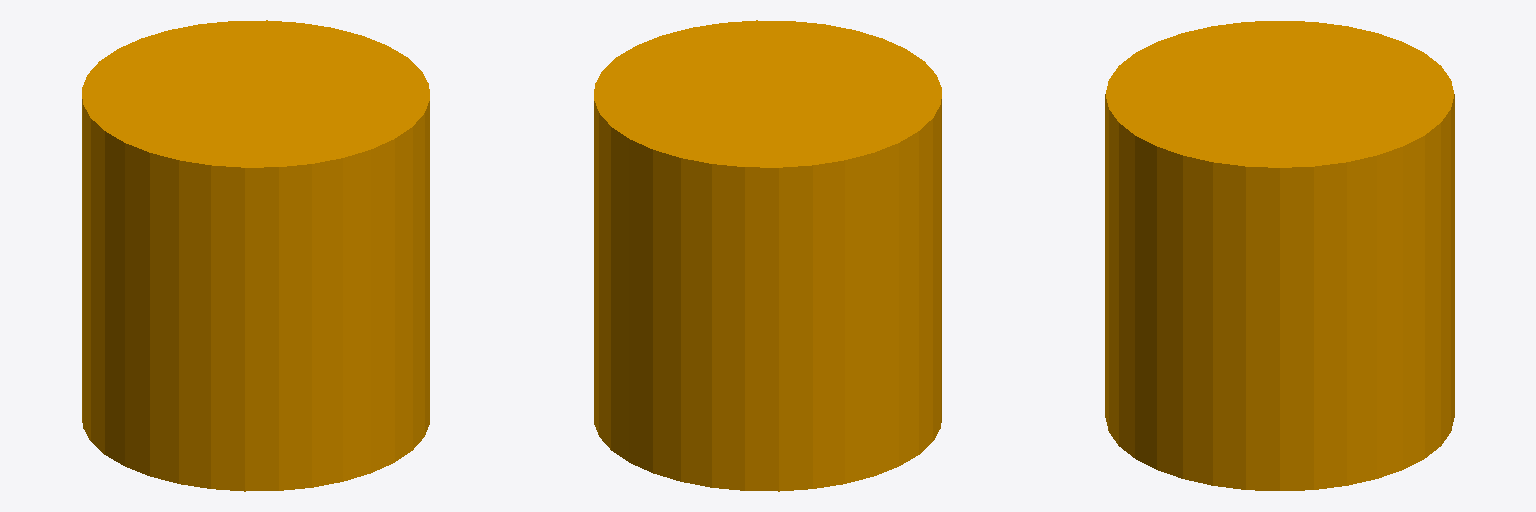
robot.urdf — cylinder.urdf:
<?xml version="1.0" encoding="utf-8"?>
<robot name="cylinder.urdf">
  <link name="baseLink">
    <contact>
      <lateral_friction value="0.5"/>
      <rolling_friction value="0.001"/>
      <spinning_friction value="0.001"/>
    </contact>
    <inertial>
      <origin rpy="0 0 0" xyz="0 0 0"/>
       <mass value="0.04"/>
       <inertia ixx="1" ixy="0" ixz="0" iyy="1" iyz="0" izz="1"/>
    </inertial>
    <visual>
      <origin rpy="0 0 0" xyz="0 0 0"/>
      <geometry>
         <mesh filename="cylinder.obj"/>
      </geometry>
    </visual>
    <collision>
      <origin rpy="0 0 0" xyz="0 0 0"/>
      <geometry>
	 	    <mesh filename="cylinder.obj"/>
      </geometry>
    </collision>
  </link>
</robot>

--- Facts derived from the render (not from the file) ---
Views: 3 orthographic renders of the robot side by side, from view 1: azimuth 30°, elevation 25°; view 2: azimuth 150°, elevation 25°; view 3: azimuth 270°, elevation 25°.
Model cylinder.urdf with 1 links and 0 joints (none), rooted at baseLink, posed all joints at 0.
Visible links, largest first — view 1: baseLink; view 2: baseLink; view 3: baseLink.
Boxes of the visible links, left/top/right/bottom form: baseLink: left=82, top=20, right=429, bottom=491; baseLink: left=594, top=20, right=941, bottom=491; baseLink: left=1105, top=21, right=1454, bottom=490.
Bounding box of the posed robot: 0.044 × 0.044 × 0.045 m (x, y, z).
1 mesh visuals loaded from 1 distinct referenced files (1 OBJ).